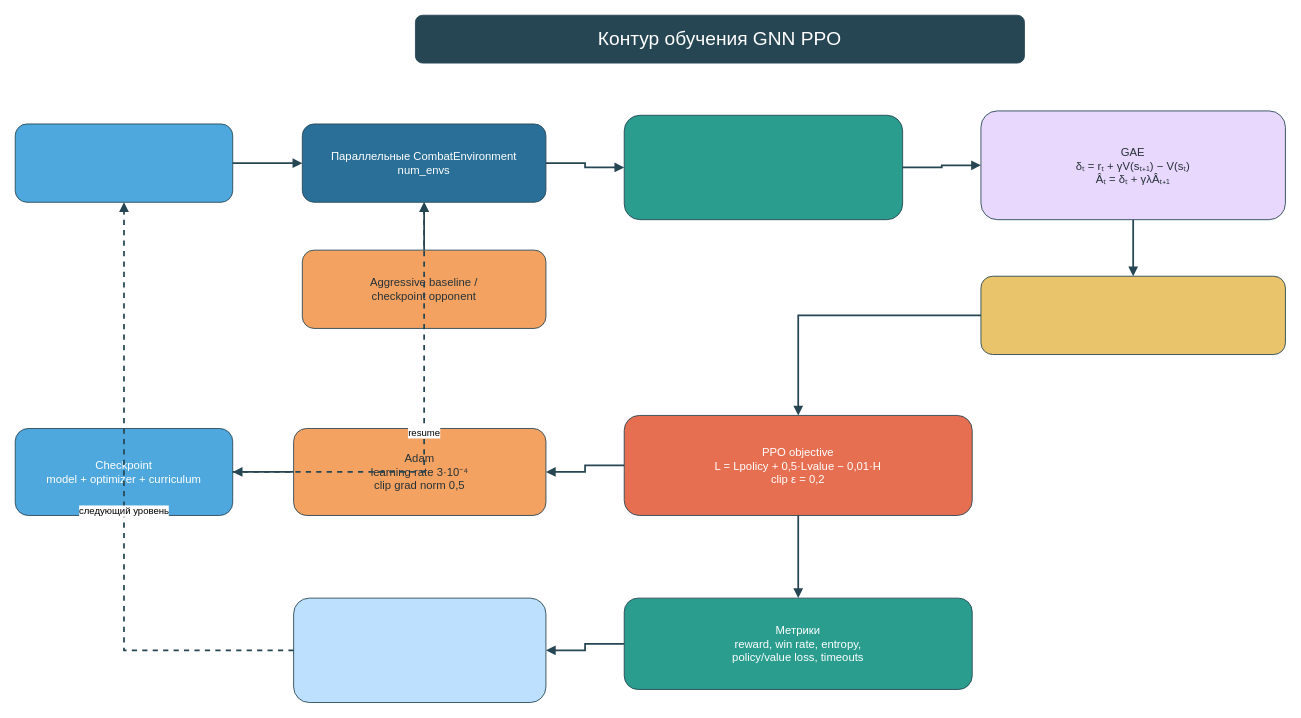
Some shapes in this 1301 by 718 pixel diagram are drawn without their labels. The centre of each missing label's shape, as x and y in pixels:
"Curriculum generator 13 уровней сложности" belongs at pixel 123 162.
"Rollout buffer observation, masks, action, log_prob, value, reward, done" belongs at pixel 763 167.
"Перемешивание и minibatches несколько update epochs" belongs at pixel 1132 315.
"Переход curriculum window = 20 threshold = 0,75 min updates = 10" belongs at pixel 419 650.
